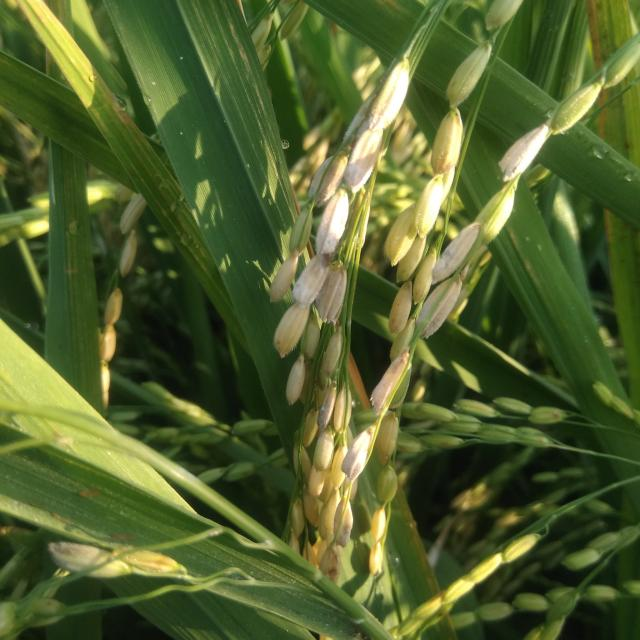Brown spot: (345, 350, 369, 411)
